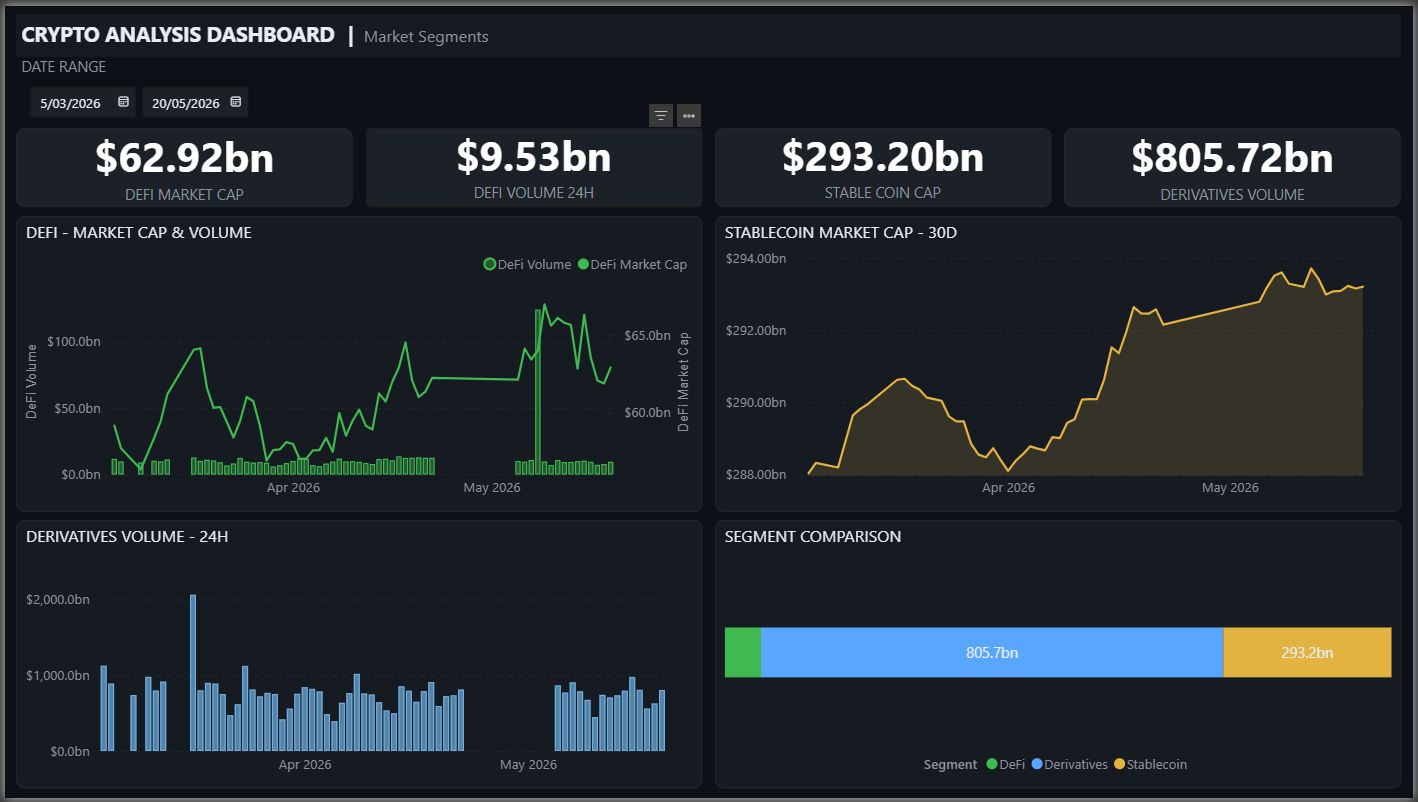

This screenshot's page, from the dashboard's own definition file:
{"tool":"powerbi","page":{"name":"Market Segments","canvas":[1280,720],"ordinal":3},"visuals":[{"type":"slicer","title":"DATE RANGE","fields":{"Values":["dim_date.Date"]},"box":[10,46,1259,65],"z":0},{"type":"cardVisual","fields":{"Data":["_Measures.Latest DeFi Market Cap"]},"box":[10,111,306,72],"z":1000},{"type":"cardVisual","fields":{"Data":["_Measures.Latest DeFi Volume 24H"]},"box":[328,111.1,305.7,71.7],"z":2000},{"type":"cardVisual","fields":{"Data":["_Measures.Latest Stablecoin Cap"]},"box":[645.6,111.1,305.7,71.7],"z":3000},{"type":"cardVisual","fields":{"Data":["_Measures.Latest Derivatives Volume"]},"box":[963,111,306,72],"z":4000},{"type":"lineClusteredColumnComboChart","title":"DEFI - MARKET CAP & VOLUME","fields":{"Category":["dim_date.Date"],"Y":["Max(fact_global_market.global_defi_volume_24h)"],"Y2":["Max(fact_global_market.global_defi_market_cap)"]},"box":[10,191,624,269],"z":5000},{"type":"areaChart","title":"STABLECOIN MARKET CAP - 30D","fields":{"Category":["dim_date.Date"],"Y":["Max(fact_global_market.global_stablecoin_market_cap)"]},"box":[645,191,624,269],"z":6000},{"type":"clusteredColumnChart","title":"DERIVATIVES VOLUME - 24H","fields":{"Category":["dim_date.Date"],"Y":["Sum(fact_global_market.global_derivatives_volume_24h)"]},"box":[10,467,624,244],"z":7000},{"type":"hundredPercentStackedBarChart","title":"SEGMENT COMPARISON","fields":{"Y":["_Measures.Segment Value"],"Series":["Segment Labels.Segment"]},"box":[645,467,624,244],"z":8000},{"type":"textbox","box":[10,7,1259,39],"z":9000}]}

Visuals, with their boxes in screenshot pixels (x1, y1, x2, y2), scaled from the page's 1280x720 canvas onto the 1418x802 screenshot:
"DATE RANGE" slicer: bbox(11, 51, 1406, 124)
cardVisual - _Measures.Latest DeFi Market Cap: bbox(11, 124, 350, 204)
cardVisual - _Measures.Latest DeFi Volume 24H: bbox(363, 124, 702, 204)
cardVisual - _Measures.Latest Stablecoin Cap: bbox(715, 124, 1054, 204)
cardVisual - _Measures.Latest Derivatives Volume: bbox(1067, 124, 1406, 204)
"DEFI - MARKET CAP & VOLUME" lineClusteredColumnComboChart: bbox(11, 213, 702, 512)
"STABLECOIN MARKET CAP - 30D" areaChart: bbox(715, 213, 1406, 512)
"DERIVATIVES VOLUME - 24H" clusteredColumnChart: bbox(11, 520, 702, 792)
"SEGMENT COMPARISON" hundredPercentStackedBarChart: bbox(715, 520, 1406, 792)
textbox: bbox(11, 8, 1406, 51)
